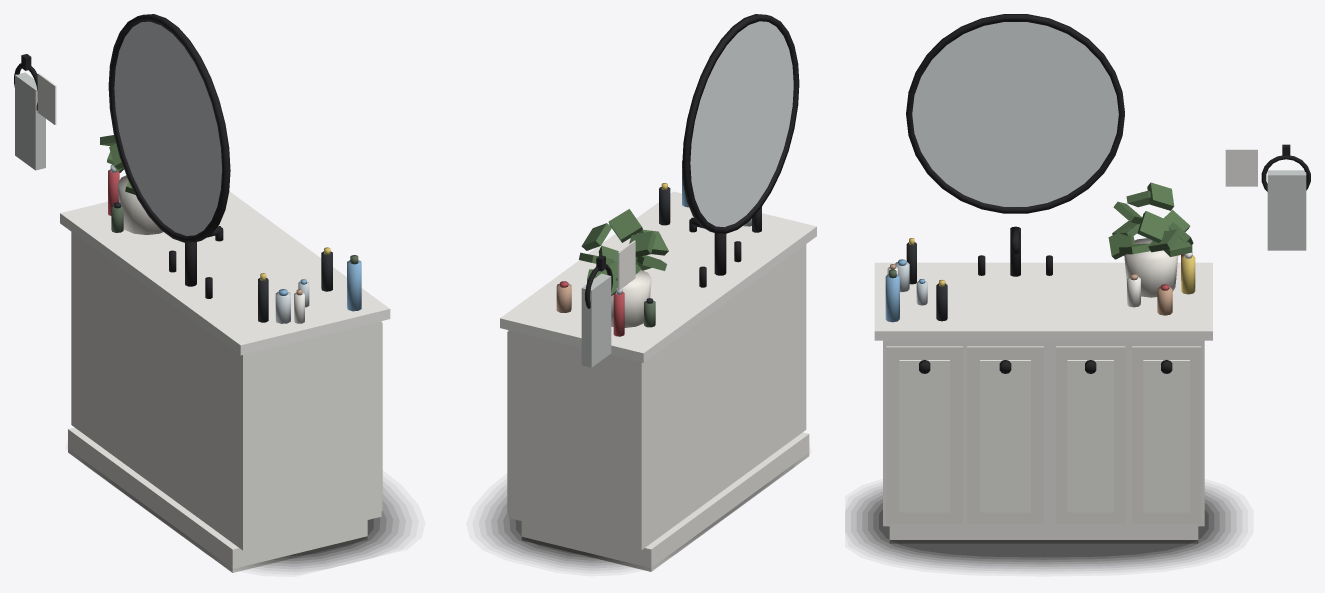
Rendered from bath2f_vanity.glb.
3 views of the same model, side by side, from view 1: azimuth 30°, elevation 25°; view 2: azimuth 150°, elevation 25°; view 3: azimuth 270°, elevation 25° (orthographic). The views are drawn at different scales.
Visible parts, largest first — view 1: root; view 2: root; view 3: root.
Boxes of the visible parts, x1,y1,x2,y2 form: root: [14, 14, 412, 572]; root: [479, 14, 816, 571]; root: [845, 14, 1310, 571].
Size of what is drawn, in the model's own units: 0.919 by 1.95 by 1.76.
